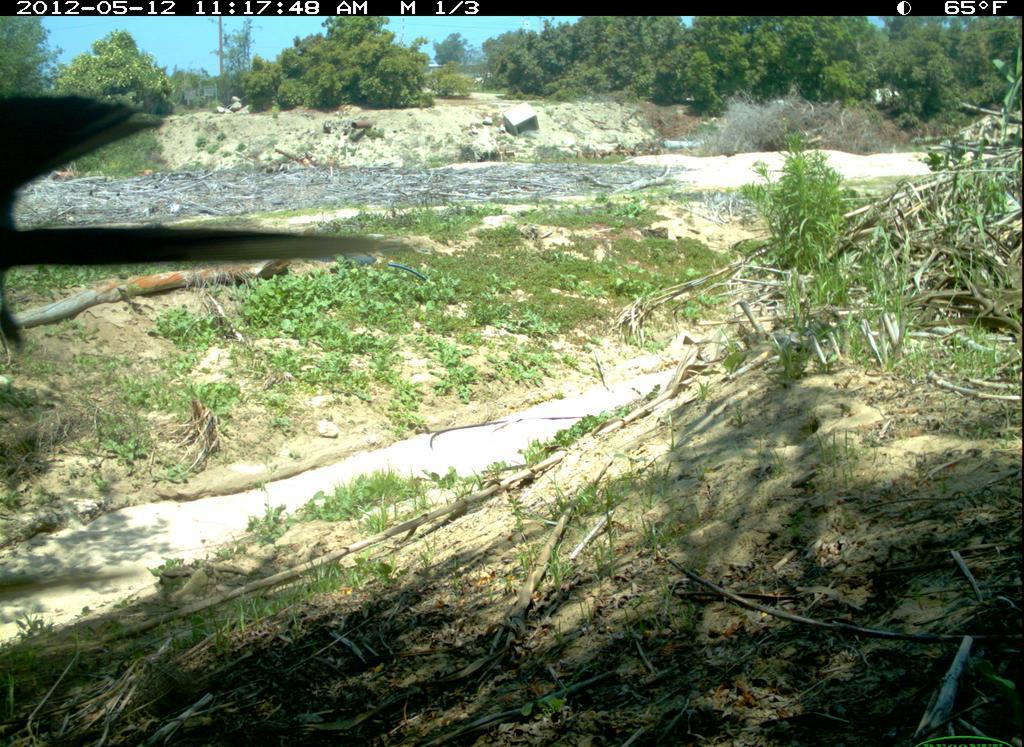bird: (3, 56, 415, 431)
